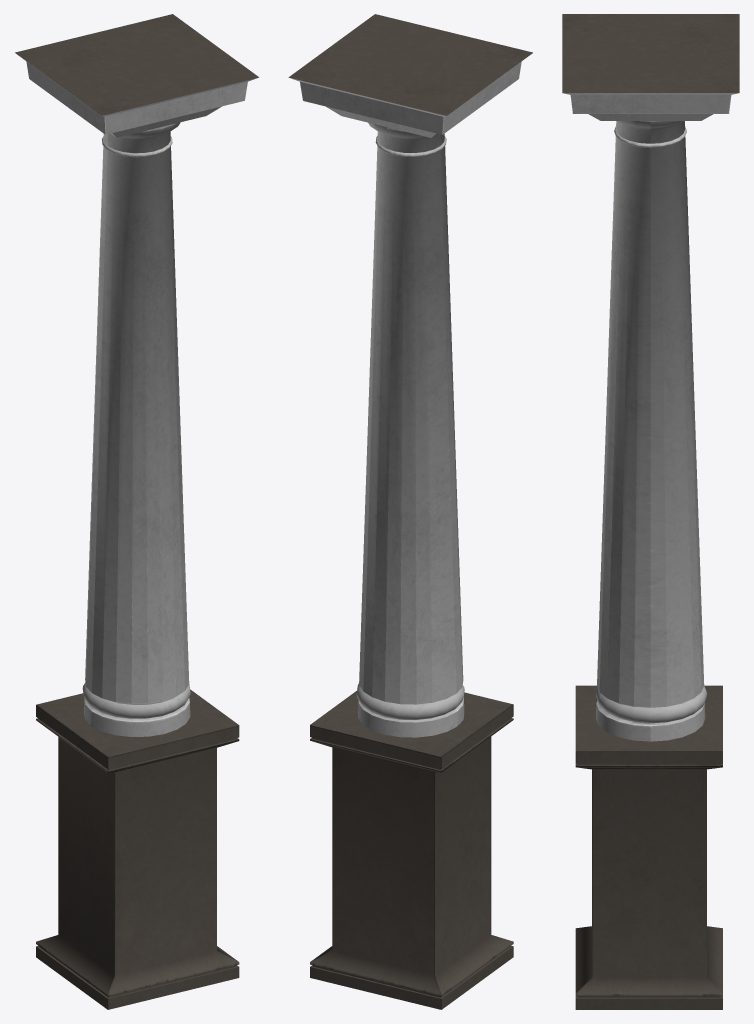
The model's file is hasira02.fbx.
The picture shows the model from 3 angles, left to right: view 1: azimuth 30°, elevation 25°; view 2: azimuth 150°, elevation 25°; view 3: azimuth 270°, elevation 25°; orthographic projection. The views are drawn at different scales.
Parts seen in each view (by area): view 1: polySurface5; view 2: polySurface5; view 3: polySurface5.
Part boxes in pixels (x1,y1,x2,y2): polySurface5: (15, 14, 258, 1009); polySurface5: (288, 14, 532, 1009); polySurface5: (562, 14, 739, 1009).
Bounding box in the file's own units: 221 × 1202 × 209.
